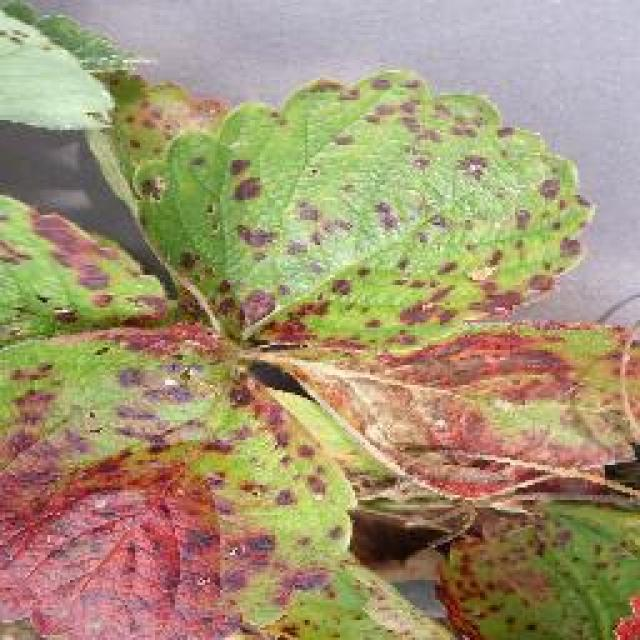Strawberry leaf scorch: (18, 244, 542, 608)
